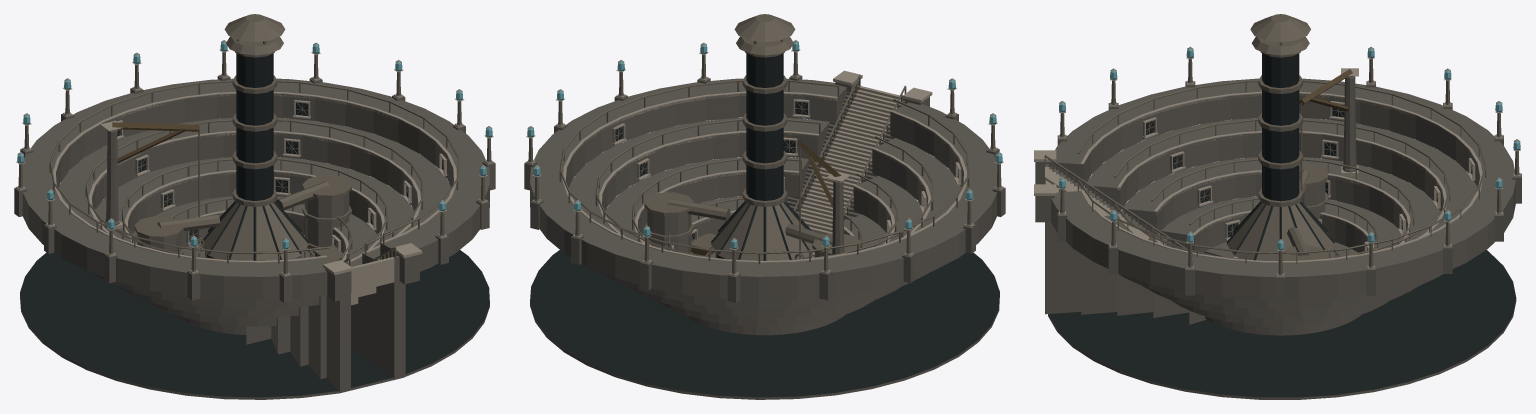
Rendered from forge-hollow.glb.
3 renders of one model, left to right at view 1: azimuth 30°, elevation 25°; view 2: azimuth 150°, elevation 25°; view 3: azimuth 270°, elevation 25°, orthographic.
Visible parts, largest first — view 1: quarried-bowl, gallery-rings, great-forge, lamp-rim, great-forge-roof; view 2: quarried-bowl, gallery-rings, great-forge, lamp-rim, great-forge-roof; view 3: quarried-bowl, gallery-rings, great-forge, lamp-rim, great-forge-roof.
Boxes of the visible parts, x1,y1,x2,y2 form: quarried-bowl: [20, 78, 489, 399]; gallery-rings: [49, 80, 459, 391]; great-forge: [134, 39, 351, 261]; lamp-rim: [14, 40, 495, 302]; great-forge-roof: [224, 14, 285, 55]; quarried-bowl: [530, 78, 999, 399]; gallery-rings: [559, 74, 969, 264]; great-forge: [644, 39, 861, 260]; lamp-rim: [524, 40, 1005, 302]; great-forge-roof: [734, 14, 795, 55]; quarried-bowl: [1048, 78, 1516, 399]; gallery-rings: [1044, 68, 1486, 324]; great-forge: [1226, 42, 1334, 260]; lamp-rim: [1034, 46, 1521, 303]; great-forge-roof: [1250, 14, 1310, 55].
Bounding box in the file's own units: 34.8 × 22.5 × 35.2.
